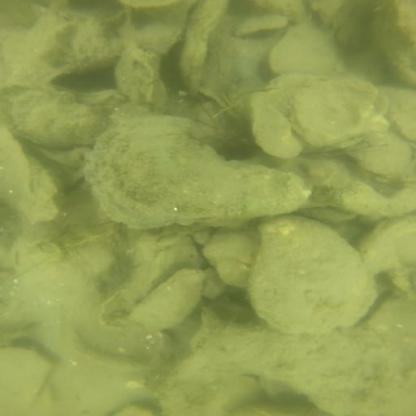Oyster- Indeterminate: (72, 314, 163, 369)
Oyster-Closed: (84, 112, 307, 228), (154, 322, 415, 416), (249, 210, 376, 330), (101, 233, 203, 331), (1, 79, 108, 145), (244, 74, 323, 158), (0, 123, 59, 221), (129, 270, 202, 331), (268, 22, 342, 73), (372, 1, 414, 88), (162, 376, 260, 413), (361, 213, 416, 278), (355, 140, 415, 180), (202, 222, 258, 263)
Oyster-Open: (0, 338, 60, 416)
